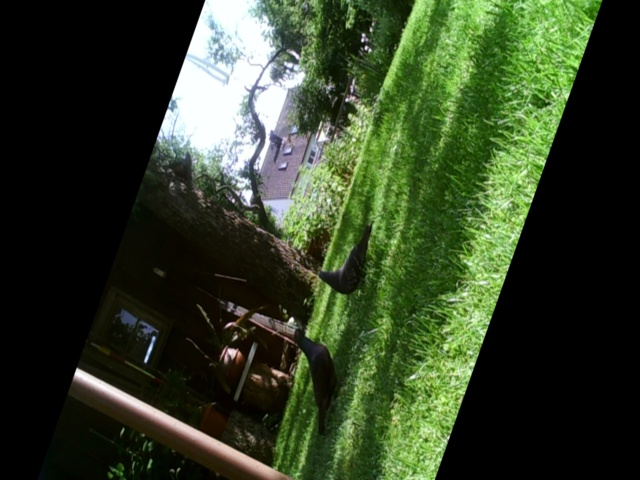Pigeon: (292, 327, 346, 432), (316, 221, 374, 303)
